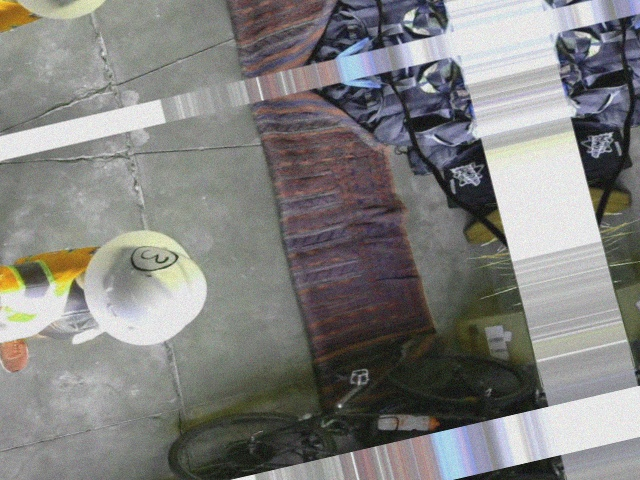three: (128, 239, 178, 274)
